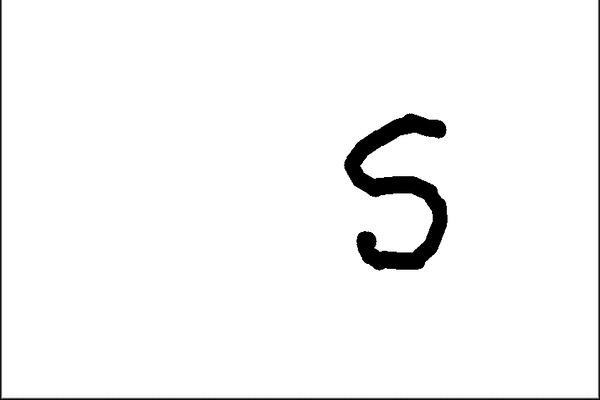S: (327, 109, 457, 280)
